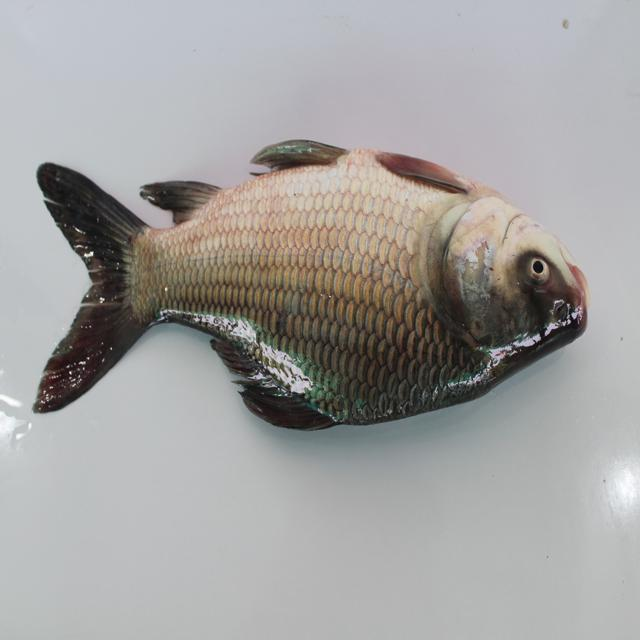Catla: (27, 135, 607, 474)
